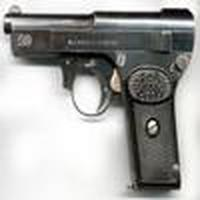gun: (4, 1, 192, 193)
